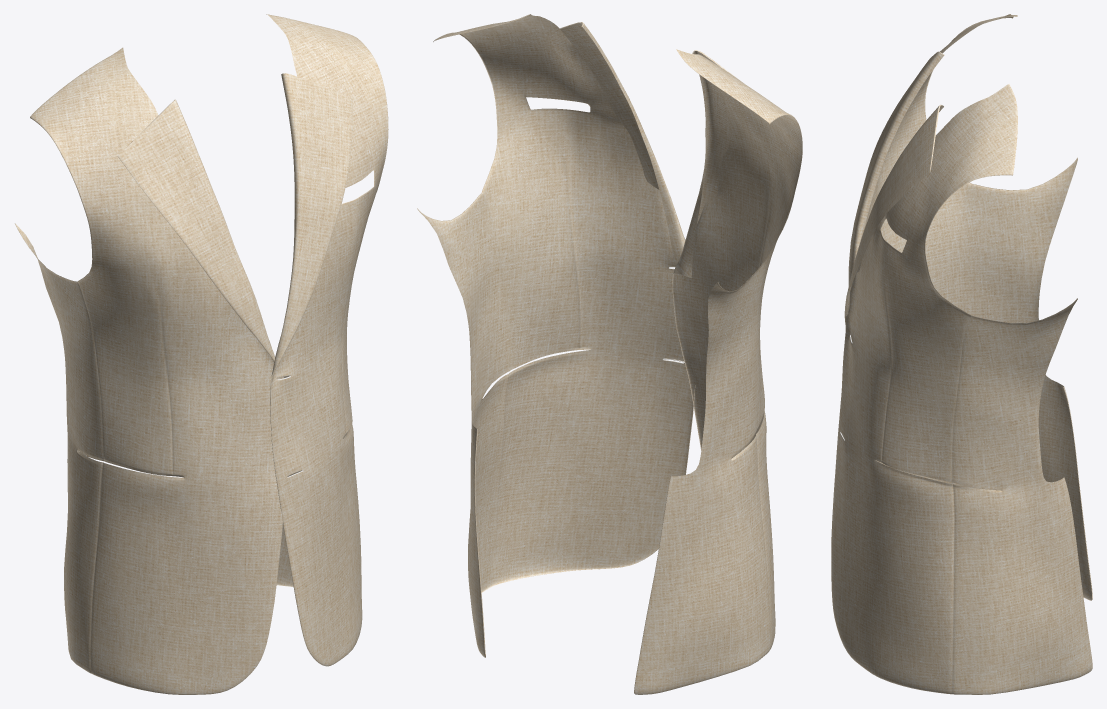
Rendered from notch_double_button.glb.
The picture shows the model from 3 angles, left to right: view 1: azimuth 30°, elevation 25°; view 2: azimuth 150°, elevation 25°; view 3: azimuth 270°, elevation 25°; orthographic projection. The views are drawn at different scales.
Visible parts, largest first — view 1: notch_double_button; view 2: notch_double_button; view 3: notch_double_button.
Boxes of the visible parts, x1,y1,x2,y2 form: notch_double_button: (15,14,388,694); notch_double_button: (417,14,802,694); notch_double_button: (831,14,1092,694).
Size of the model in its own units: 0.0585 by 0.102 by 0.0411.
Materials: 2 (1 with a texture image).
